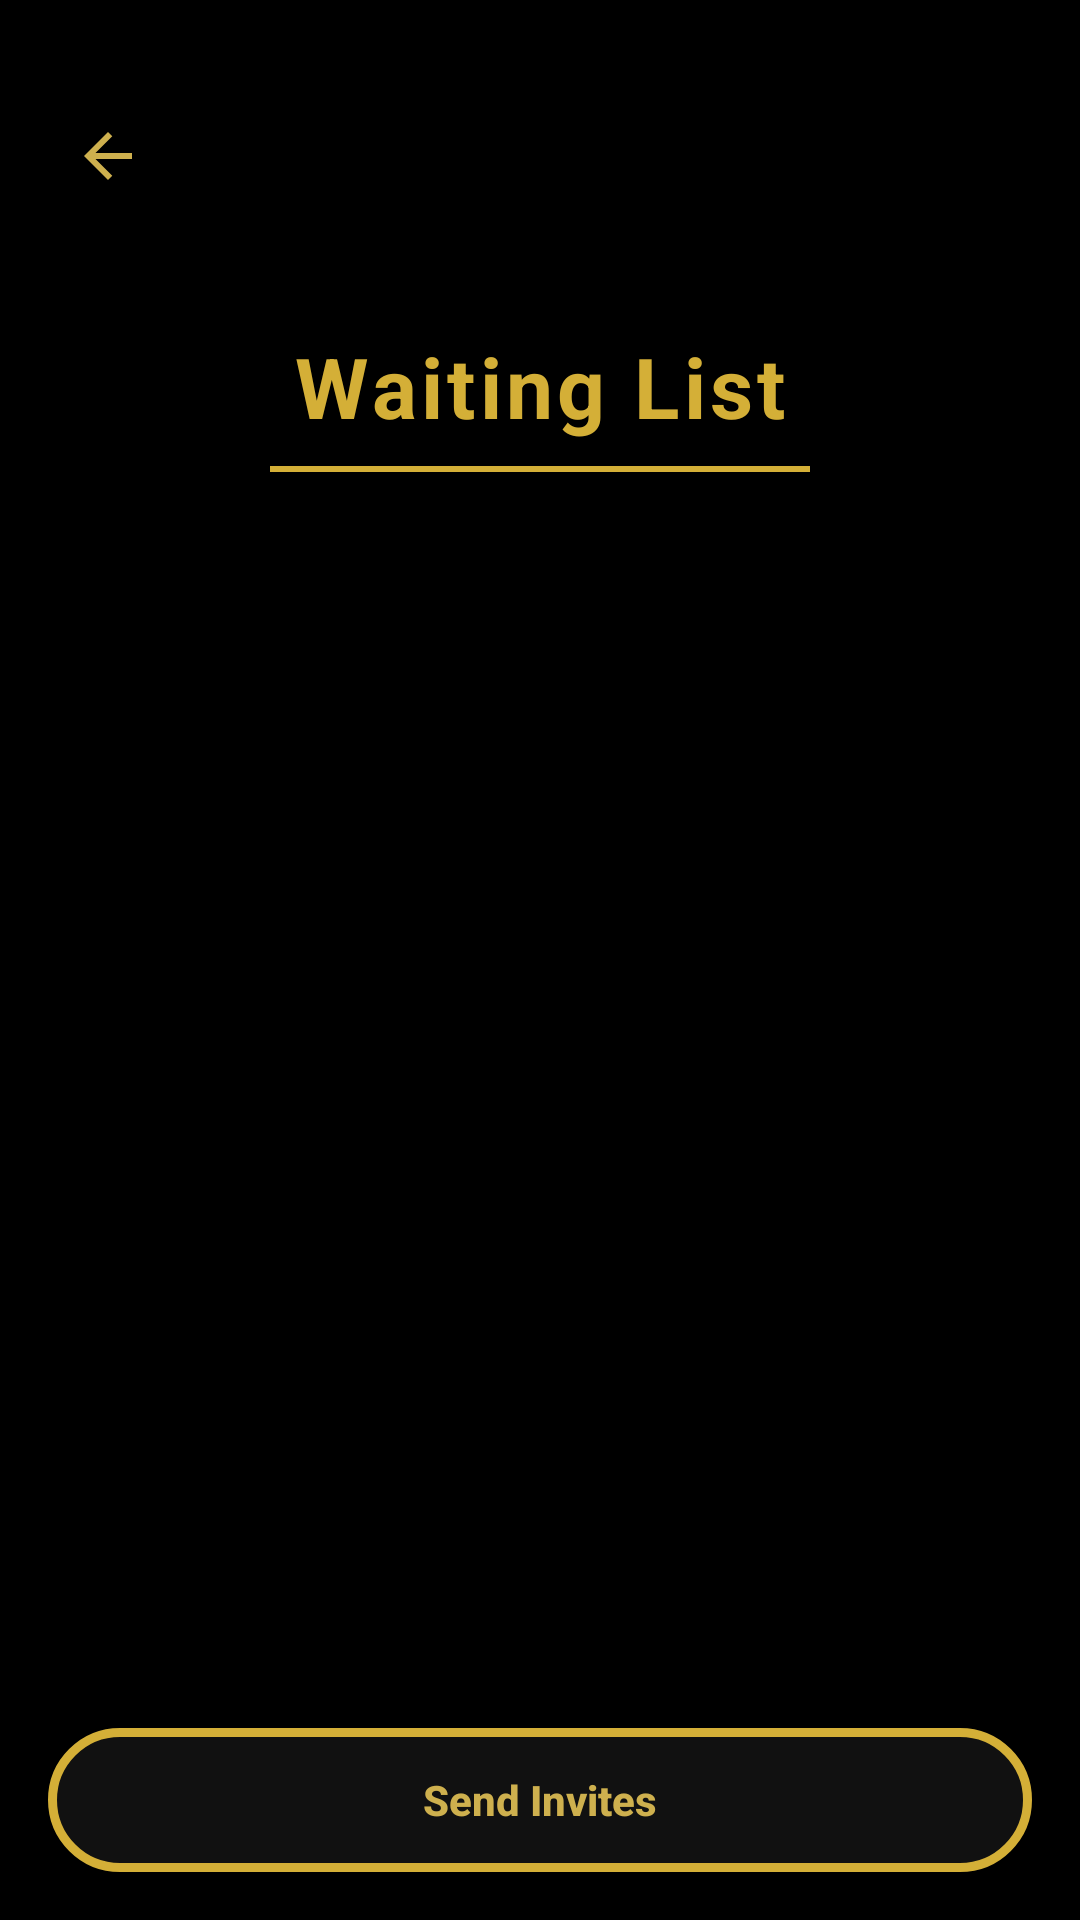

Where to tap for icons on this 1080 × 1920 app screen, as (x=x, y=y):
Back: (x=108, y=156)
